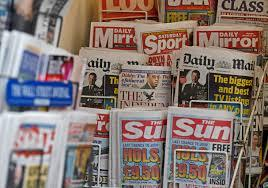Printing industry: (2, 1, 268, 188)
